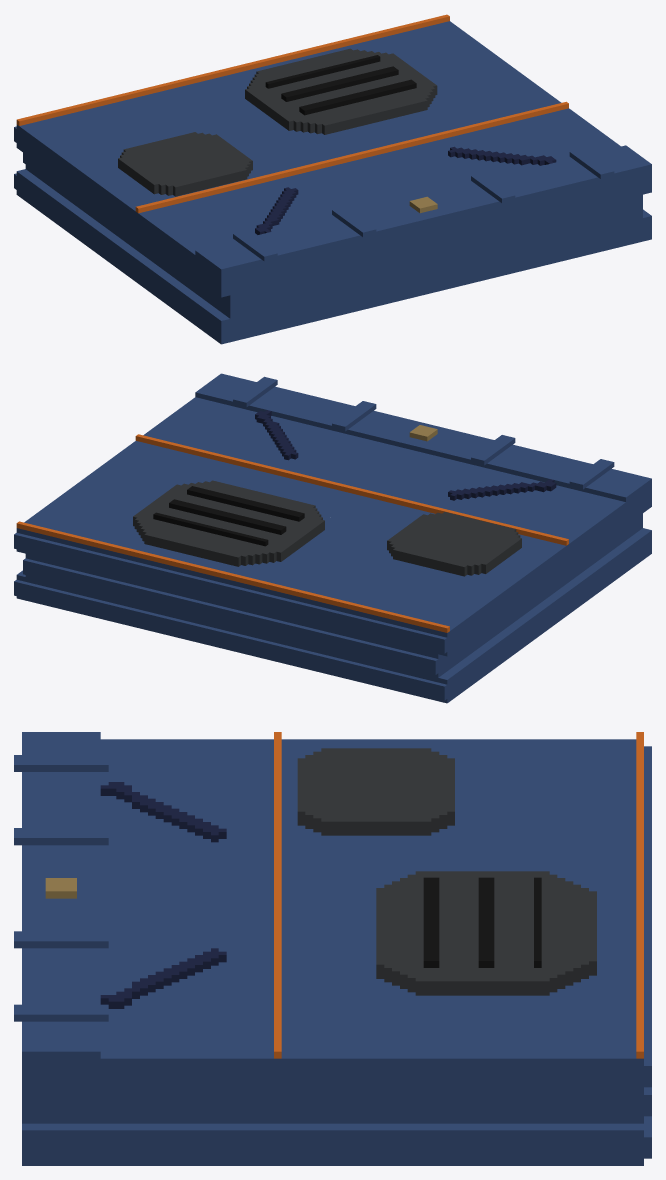
Rendered from motorcycle_jeans.glb.
The picture shows the model from 3 angles, top to bottom: view 1: azimuth 30°, elevation 25°; view 2: azimuth 150°, elevation 25°; view 3: azimuth 270°, elevation 25°; orthographic projection. The views are drawn at different scales.
Parts seen in each view (by area): view 1: motorcycle_jeans:compound; view 2: motorcycle_jeans:compound; view 3: motorcycle_jeans:compound.
Boxes of the visible parts, x1,y1,x2,y2 form: motorcycle_jeans:compound: (14, 14, 651, 344); motorcycle_jeans:compound: (14, 373, 651, 703); motorcycle_jeans:compound: (14, 732, 651, 1165).
Size of the model in its own units: 0.384 by 0.072 by 0.324.
